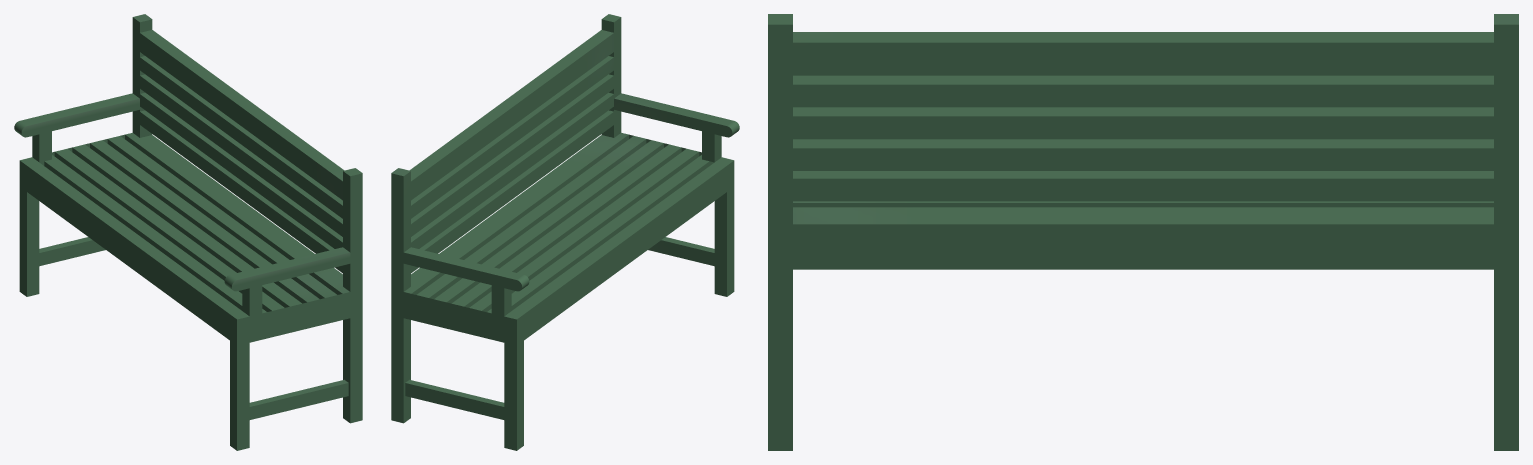
The model's file is Park_Bench_Green.gltf.
The picture shows the model from 3 angles, left to right: view 1: azimuth 30°, elevation 25°; view 2: azimuth 150°, elevation 25°; view 3: azimuth 270°, elevation 25°; orthographic projection. The views are drawn at different scales.
Parts seen in each view (by area): view 1: node1; view 2: node1; view 3: node1.
Boxes of the visible parts, x1,y1,x2,y2 form: node1: (14,14,362,450); node1: (391,14,739,450); node1: (768,14,1518,450).
Size of the model in its own units: 0.5214 by 0.94 by 1.5.
